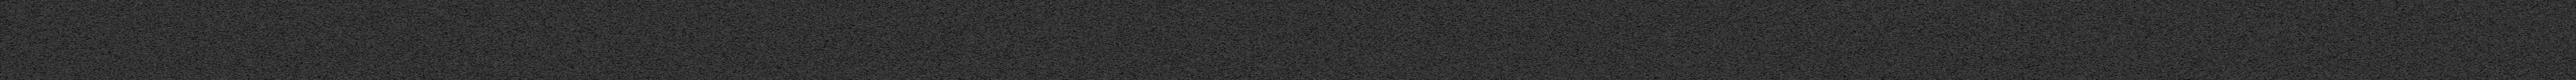wv_cw: (2275, 0, 2279, 80)
wv_lsb: (207, 2, 212, 80), (3, 46, 7, 80), (3, 7, 7, 26), (3, 33, 7, 39), (3, 41, 5, 44), (3, 28, 5, 31), (3, 3, 5, 7)
wv_usb: (74, 2, 77, 80)
wv_wbfm: (148, 0, 181, 70), (153, 70, 177, 80)
